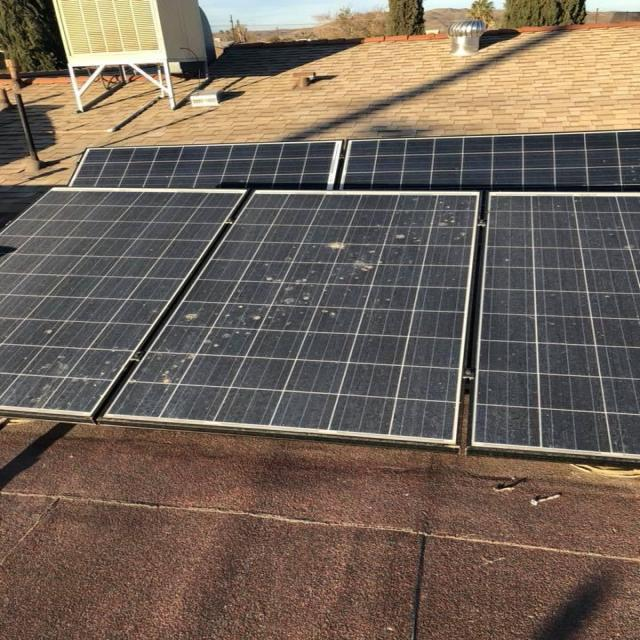Dusty: (123, 310, 287, 390), (259, 237, 357, 319), (32, 320, 123, 405), (357, 202, 473, 262), (581, 231, 639, 253)
